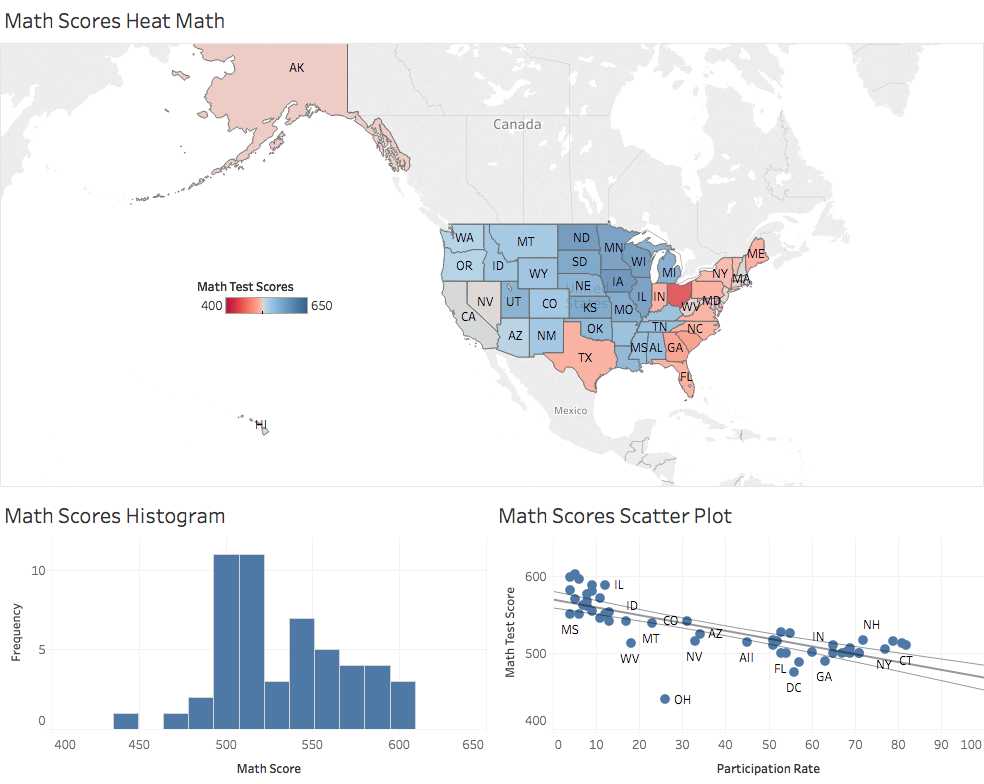

The dashboard page shown, as its layout file describes it:
{"tool":"tableau","page":{"name":"Math Scores Dashboard","canvas":[1000,800],"ordinal":0},"visuals":[{"type":"worksheet","title":"Math Scores Heat Math","mark":"Automatic","box":[0,0,996,499]},{"type":"legend","title":"Math Scores Heat Math","param":"[federated.1gv8xg40fgaq7g19lp4ga1c3kl4m].[sum:Math:qk]","box":[205,282,140,40]},{"type":"worksheet","title":"Math Scores Histogram","mark":"Automatic","rows":["Math"],"cols":["Math (bin)"],"box":[0,499,498,301]},{"type":"worksheet","title":"Math Scores Scatter Plot","mark":"Automatic","rows":["Math"],"cols":["Rate"],"box":[498,499,498,301]}]}

Visuals, with their boxes in screenshot pixels (x1, y1, x2, y2), scaled from the page's 1000x800 canvas onto the 984x784 screenshot:
"Math Scores Heat Math" worksheet: rect(0, 0, 980, 489)
"Math Scores Heat Math" legend: rect(202, 276, 339, 316)
"Math Scores Histogram" worksheet: rect(0, 489, 490, 783)
"Math Scores Scatter Plot" worksheet: rect(490, 489, 980, 783)
